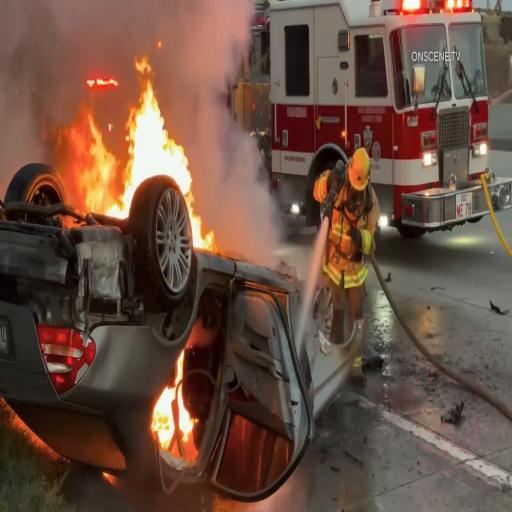fire: (116, 62, 216, 248), (40, 98, 114, 220), (156, 378, 199, 455)
smoke: (219, 136, 290, 274), (2, 2, 68, 118)
